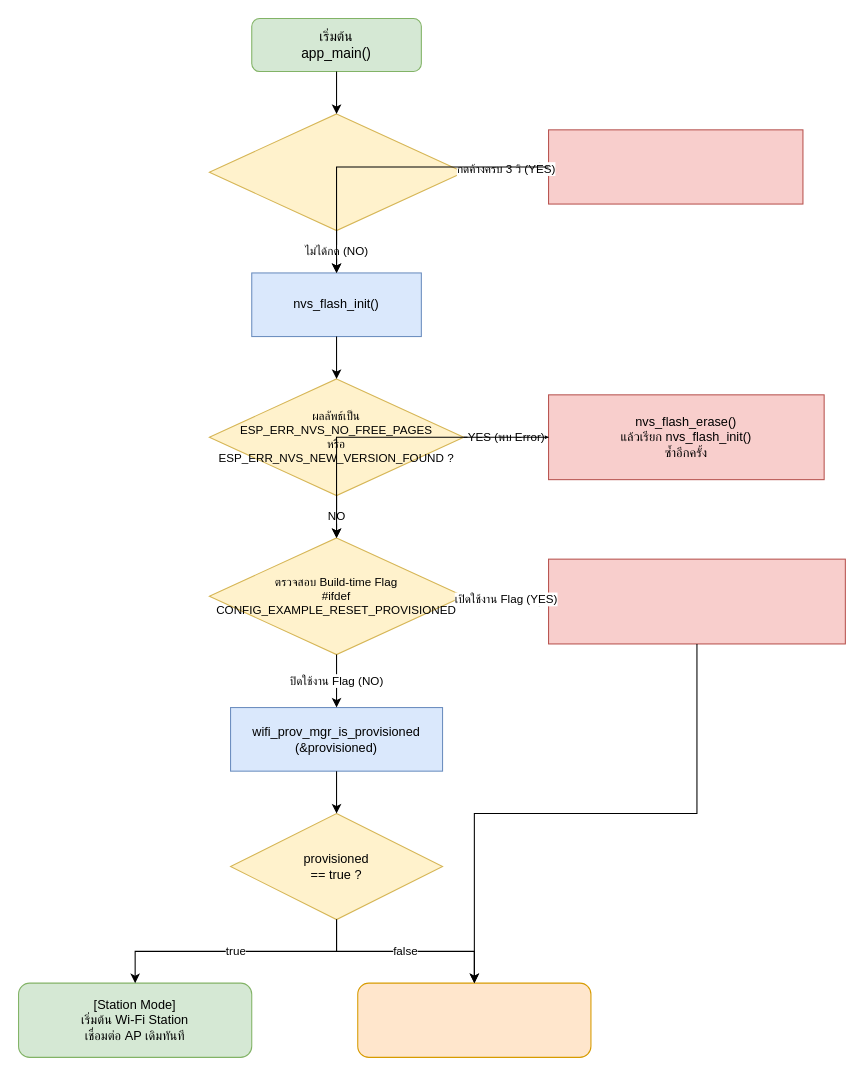
Some shapes in this 864 by 1076 pixel diagram are drawn without their labels. The shapes that lost their labels are listed below. From the top down, each one's centre as x and y in pixels, then its label:
(x=336, y=172): ตรวจสอบปุ่ม Factory Reset (GPIO 18) ถูกกดค้าง ครบ 3 วินาทีหรือไม่?
(x=675, y=166): [Hardware Reset] nvs_flash_erase()
(x=696, y=601): [Menuconfig Reset] wifi_prov_mgr_reset_provisioning()
(x=474, y=1019): [Provisioning Mode] กระจายสัญญาณ BLE / SoftAP
